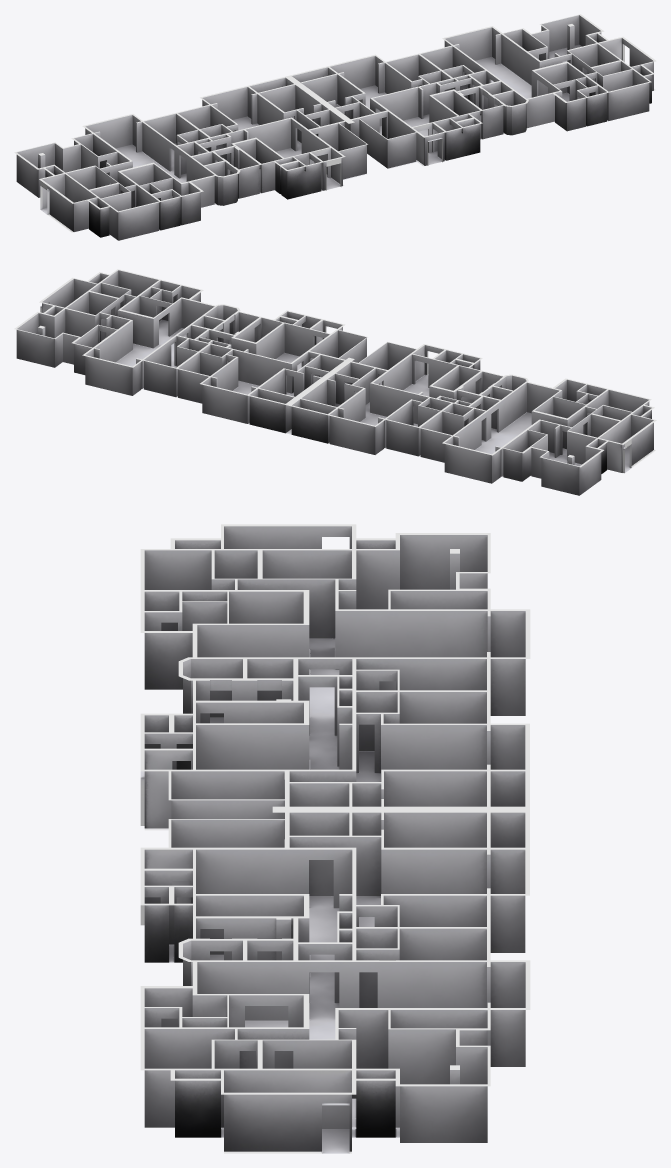
File: BLD-2-Interior-1F.FBX
3 renders of one model, top to bottom at view 1: azimuth 30°, elevation 25°; view 2: azimuth 150°, elevation 25°; view 3: azimuth 270°, elevation 25°, orthographic. The views are drawn at different scales.
Parts seen in each view (by area): view 1: BLD-2-Interior-Ground-Floor, Object014; view 2: BLD-2-Interior-Ground-Floor, Object014; view 3: BLD-2-Interior-Ground-Floor, Object014.
Part boxes in pixels (box(x1,y1,x2,y2)): BLD-2-Interior-Ground-Floor: box(14, 14, 656, 240); Object014: box(40, 44, 655, 235); BLD-2-Interior-Ground-Floor: box(14, 269, 656, 495); Object014: box(102, 319, 655, 476); BLD-2-Interior-Ground-Floor: box(140, 524, 530, 1151); Object014: box(144, 638, 399, 1153).
Size of the model in its own units: 44.22 by 2.13 by 12.76.
